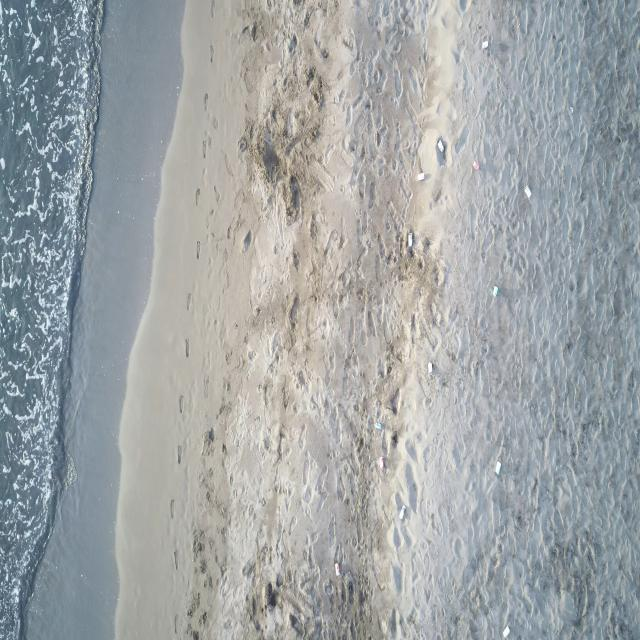Garbage: (435, 136, 446, 166), (377, 455, 384, 470), (524, 184, 531, 198), (436, 139, 443, 151), (373, 422, 383, 430), (407, 232, 412, 247), (495, 460, 500, 475), (502, 624, 508, 636), (415, 172, 424, 180), (492, 286, 499, 296), (335, 562, 340, 575), (400, 504, 404, 520), (472, 160, 479, 169), (427, 360, 432, 372), (480, 40, 487, 48), (568, 105, 572, 112)
